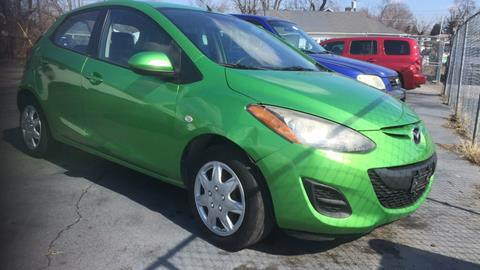Mazda3 Hatchback: (13, 1, 441, 257)
